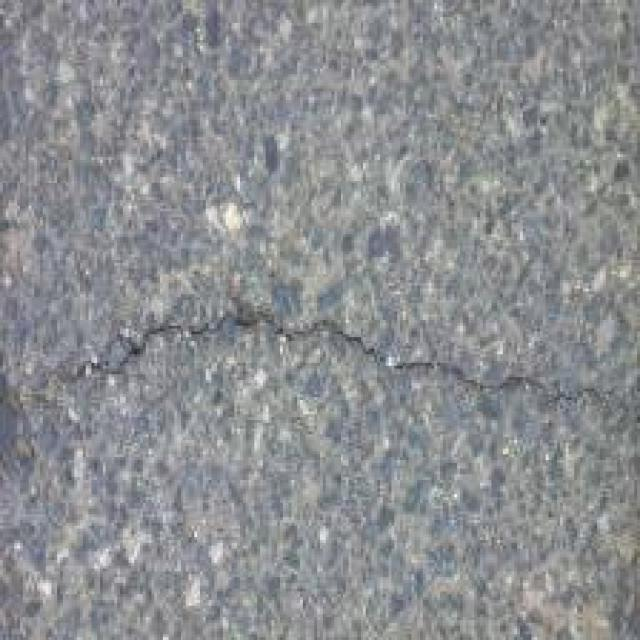crack: (24, 280, 640, 462)
